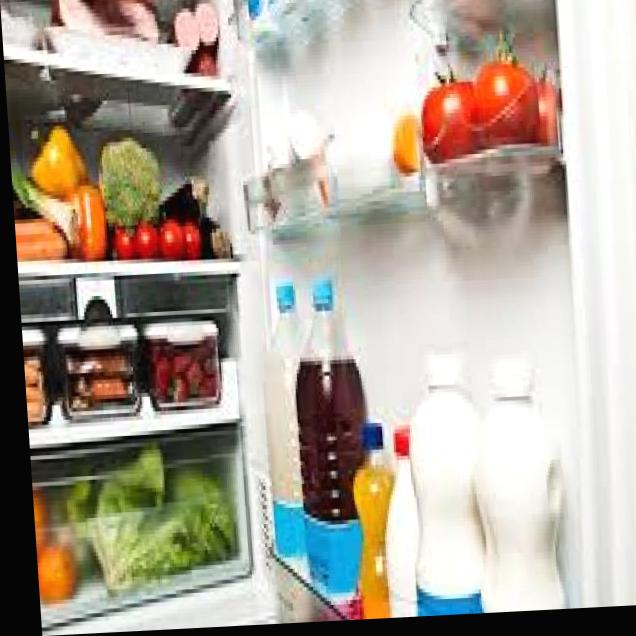butter: (260, 134, 354, 234)
tomatoes: (403, 61, 574, 188), (104, 214, 206, 273)
